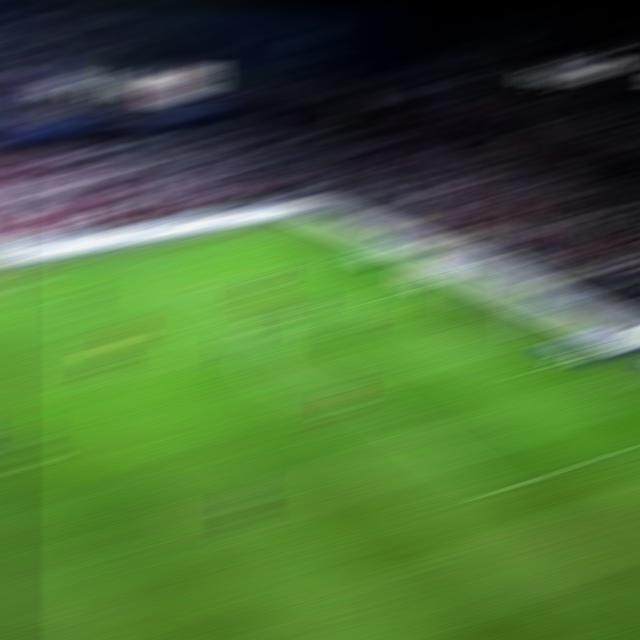bigarea_bottom_inner: (478, 481, 515, 499)
bigarea_top_inner: (187, 280, 222, 292)
bigarea_top_outter: (343, 248, 376, 257)
bottom_arc_area_intersection: (352, 394, 386, 408)
corner: (274, 219, 314, 226)
smallarea_bottom_inner: (500, 366, 536, 381)
smallarea_bottom_outter: (560, 351, 595, 360)
smallarea_top_inner: (361, 293, 392, 302)
smallarea_top_outter: (408, 280, 442, 290)
top_arc_area_intersection: (252, 325, 286, 338)
